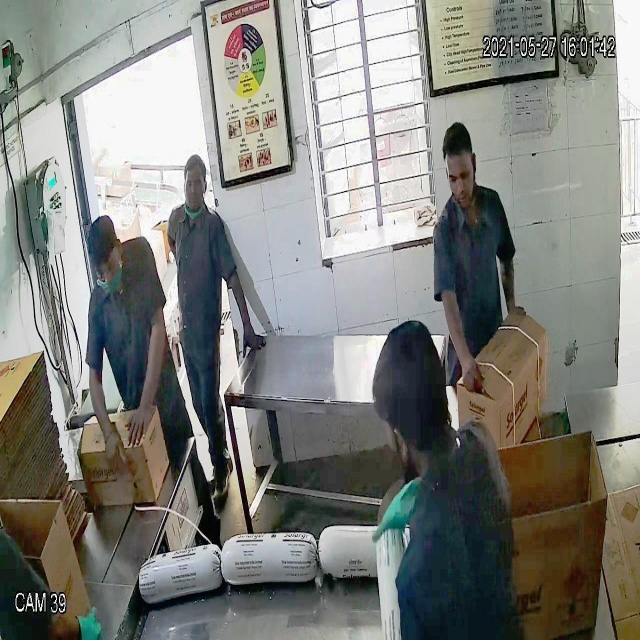Sin_gafas: (439, 161, 482, 194), (90, 250, 126, 285)
